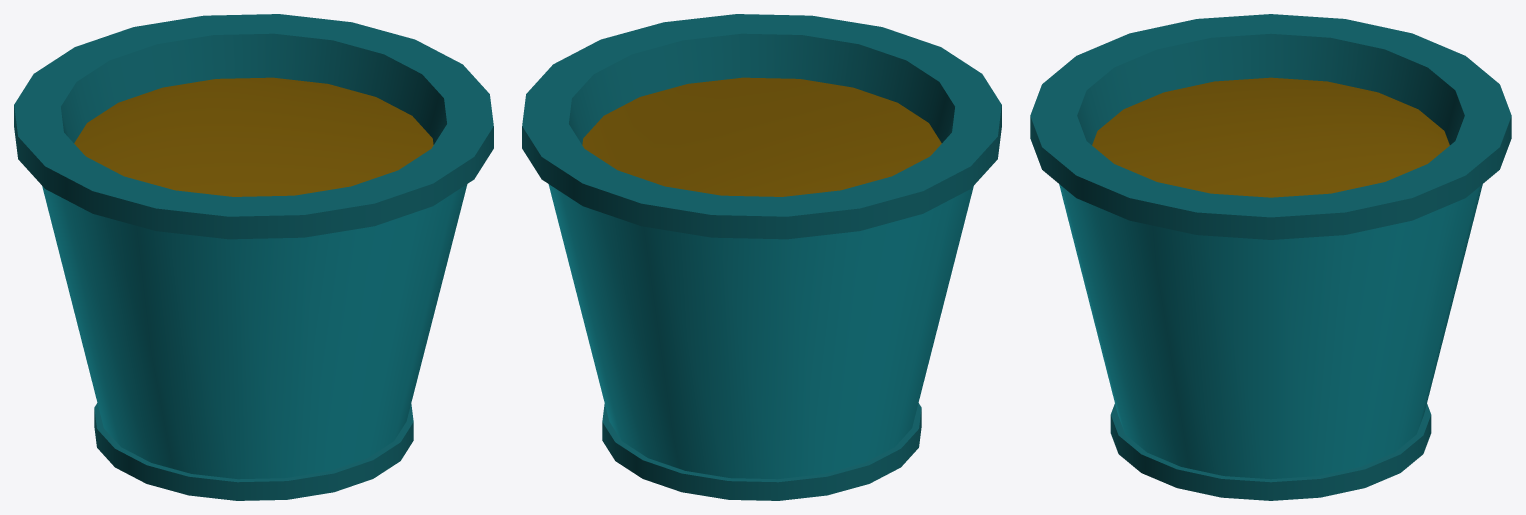
File: AğaçBir.fbx
The picture shows the model from 3 angles, left to right: view 1: azimuth 30°, elevation 25°; view 2: azimuth 150°, elevation 25°; view 3: azimuth 270°, elevation 25°; orthographic projection.
Parts seen in each view (by area): view 1: AğaçBir, Toprak; view 2: AğaçBir, Toprak; view 3: AğaçBir, Toprak.
Boxes of the visible parts, x1=… form: AğaçBir: x1=14, y1=14, x2=493, y2=500; Toprak: x1=74, y1=77, x2=433, y2=196; AğaçBir: x1=522, y1=14, x2=1001, y2=500; Toprak: x1=582, y1=77, x2=941, y2=196; AğaçBir: x1=1030, y1=14, x2=1511, y2=500; Toprak: x1=1092, y1=77, x2=1449, y2=197.
Size of the model in its own units: 34.98 by 25.46 by 34.98.
